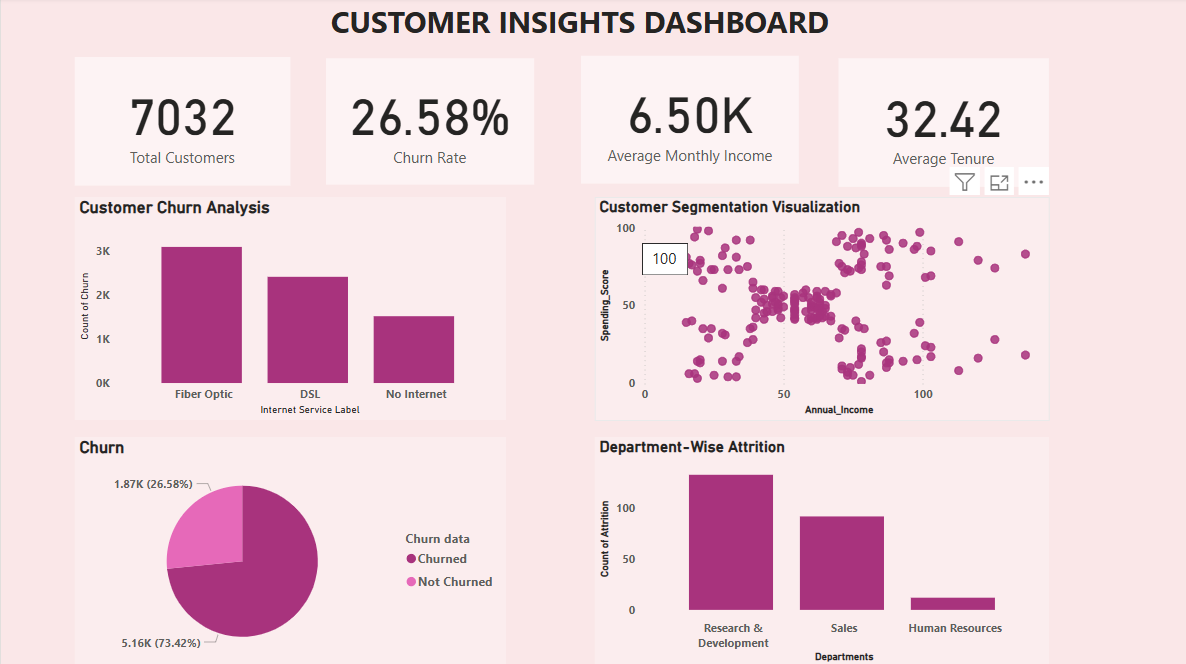

The dashboard page shown, as its layout file describes it:
{"tool":"powerbi","page":{"name":"Customer Insights Dashboard","canvas":[1280,720],"ordinal":0},"visuals":[{"type":"card","fields":{"Values":["Customer Churn.Total Customers"]},"box":[79.6,64.5,231.9,138.6],"z":0},{"type":"textbox","box":[349.9,0,547.5,86.4],"z":1000},{"type":"card","fields":{"Values":["Customer Churn.Churn Rate"]},"box":[349.9,65.9,223.7,135.8],"z":2000},{"type":"card","fields":{"Values":["Employee Attrition.Average Monthly Income"]},"box":[624.4,63.1,234.6,137.2],"z":3000},{"type":"card","fields":{"Values":["Customer Churn.Average Tenure"]},"box":[901.5,65.9,226.4,138.6],"z":4000},{"type":"clusteredColumnChart","title":"Customer Churn Analysis","fields":{"Y":["CountNonNull(Customer Churn.Churn)"],"Category":["Customer Churn.Internet Service Label"]},"box":[79.6,215.4,463.8,240.1],"z":5000},{"type":"pieChart","title":"Churn","fields":{"Y":["CountNonNull(Customer Churn.Churn)"],"Category":["Customer Churn.Churn Label"]},"box":[79.6,473.4,463.8,247],"z":6000},{"type":"scatterChart","title":"Customer Segmentation Visualization","fields":{"X":["Customer Segmentation.Annual_Income"],"Y":["Customer Segmentation.Spending_Score"]},"box":[639.5,215.4,488.5,240.1],"z":6001},{"type":"clusteredColumnChart","title":"Department-Wise Attrition","fields":{"Y":["CountNonNull(Employee Attrition.Attrition)"],"Category":["Employee Attrition.Departments"]},"box":[639.5,473.4,488.5,247],"z":6002}]}

Visuals, with their boxes in screenshot pixels (x1, y1, x2, y2), scaled from the page's 1280x720 canvas onto the 1186x664 screenshot:
card - Customer Churn.Total Customers: l=74, t=59, r=289, b=187
textbox: l=324, t=0, r=831, b=80
card - Customer Churn.Churn Rate: l=324, t=61, r=531, b=186
card - Employee Attrition.Average Monthly Income: l=579, t=58, r=796, b=185
card - Customer Churn.Average Tenure: l=835, t=61, r=1045, b=189
"Customer Churn Analysis" clusteredColumnChart: l=74, t=199, r=503, b=420
"Churn" pieChart: l=74, t=437, r=503, b=663
"Customer Segmentation Visualization" scatterChart: l=593, t=199, r=1045, b=420
"Department-Wise Attrition" clusteredColumnChart: l=593, t=437, r=1045, b=663
